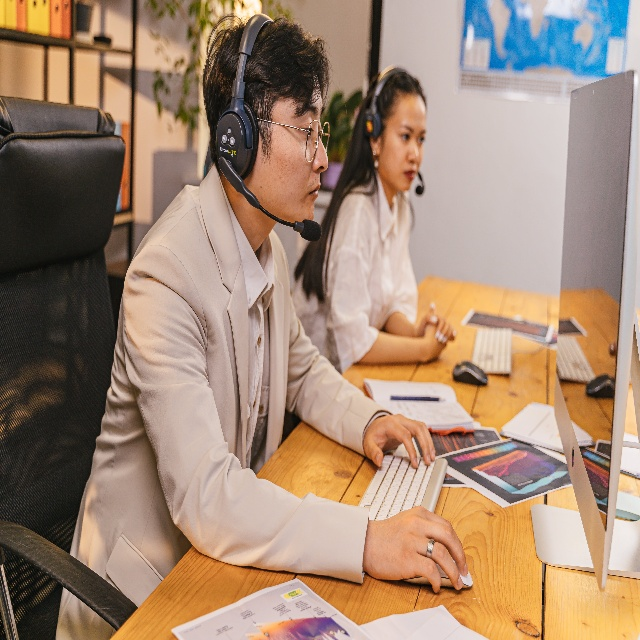Gafas: (257, 113, 330, 162)
Sin_guantes: (370, 507, 467, 593), (363, 407, 433, 472), (422, 305, 452, 352), (424, 316, 454, 357)
